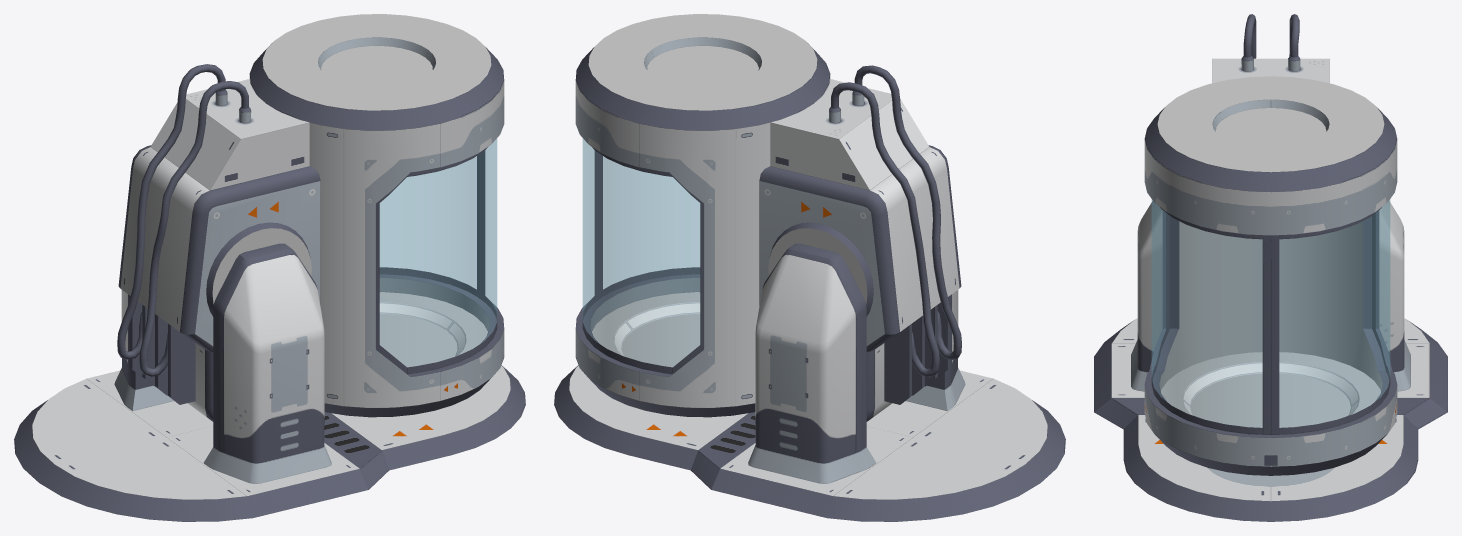
The model's file is Health_Pod_01.FBX.
3 views of the same model, side by side, from view 1: azimuth 30°, elevation 25°; view 2: azimuth 150°, elevation 25°; view 3: azimuth 270°, elevation 25° (orthographic).
Visible parts, largest first — view 1: Pod, Health_Pod_01, Door_Left, Base, Door_Right; view 2: Pod, Health_Pod_01, Door_Right, Base, Door_Left; view 3: Pod, Health_Pod_01, Door_Left, Door_Right, Base.
Part boxes in pixels (x1,y1,x2,y2): Pod: (117, 14, 504, 421); Health_Pod_01: (14, 365, 525, 521); Door_Left: (376, 138, 497, 374); Base: (121, 243, 324, 463); Door_Right: (379, 153, 480, 299); Pod: (575, 14, 961, 421); Health_Pod_01: (554, 365, 1065, 521); Door_Right: (582, 138, 703, 374); Base: (755, 243, 958, 463); Door_Left: (599, 153, 700, 299); Pod: (1144, 14, 1397, 475); Health_Pod_01: (1094, 318, 1447, 521); Door_Left: (1151, 199, 1270, 434); Door_Right: (1271, 199, 1390, 434); Base: (1137, 201, 1404, 371).
Size of the model in its own units: 5.27 by 3.95 by 3.49.
